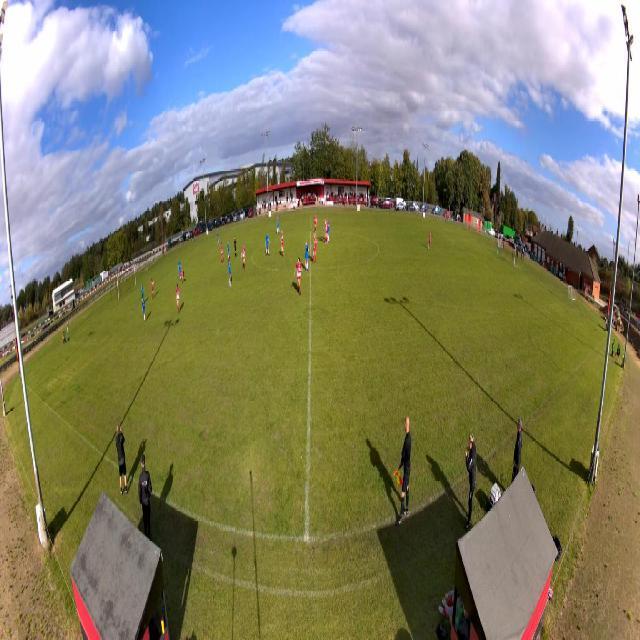player: (294, 257, 303, 296), (313, 231, 318, 265), (265, 231, 271, 258), (228, 256, 233, 288), (305, 240, 310, 271), (141, 296, 146, 324), (241, 242, 246, 269), (176, 283, 180, 314), (280, 229, 284, 258), (220, 242, 225, 264), (324, 217, 328, 244), (233, 235, 237, 259), (178, 257, 182, 281), (151, 276, 155, 300), (428, 229, 432, 251), (313, 212, 317, 233), (276, 216, 280, 235), (140, 282, 144, 301), (327, 219, 330, 243), (227, 240, 231, 258), (181, 270, 185, 284), (217, 231, 220, 247)
